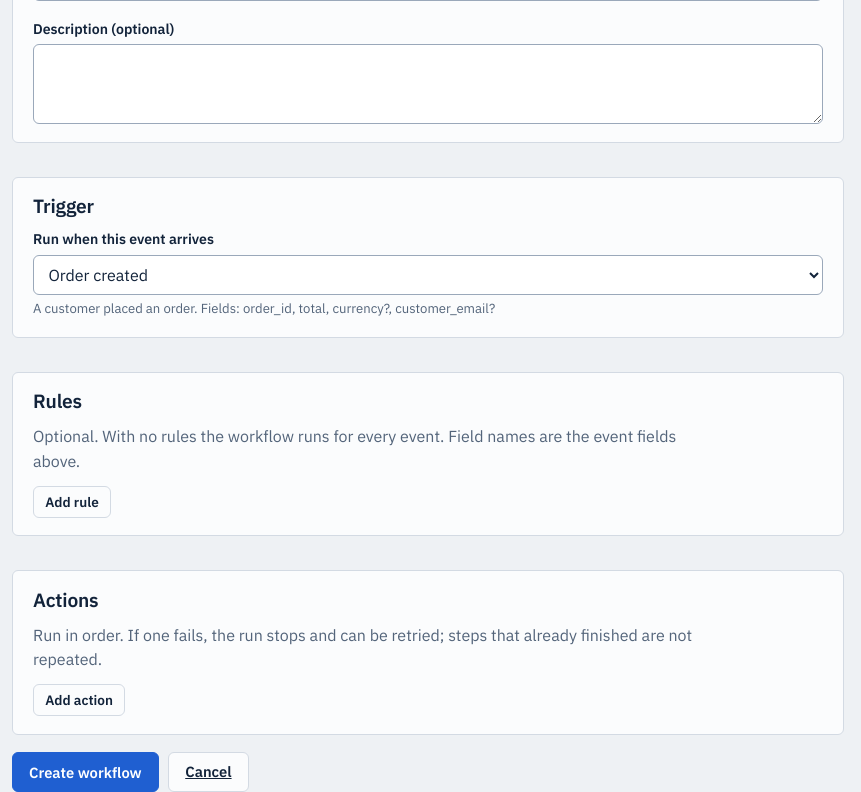
Test case: a new workflow can start from the blank form
(page scrolled)
Click the button "Add action". click: click(79, 700)
box: [33,684,125,716]
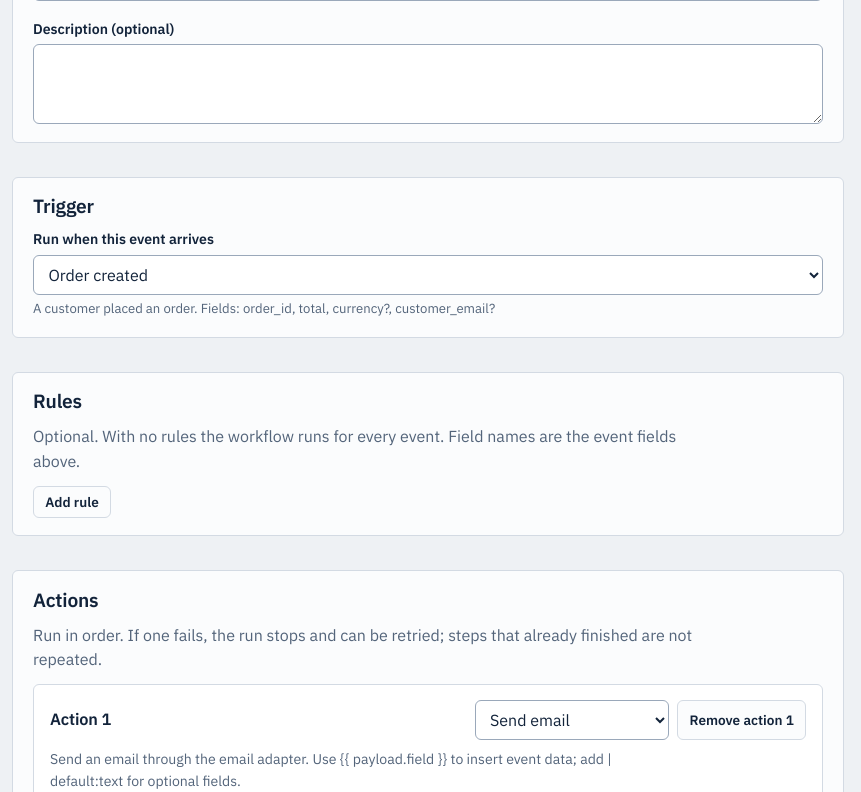
Result: the heading "Action 1" is shown at [50,710,111,729]
